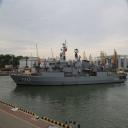Fragata: (10, 41, 128, 90)
